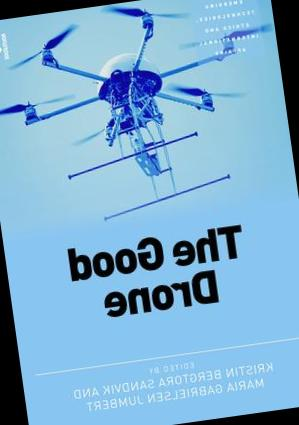drone: (0, 2, 252, 191)
